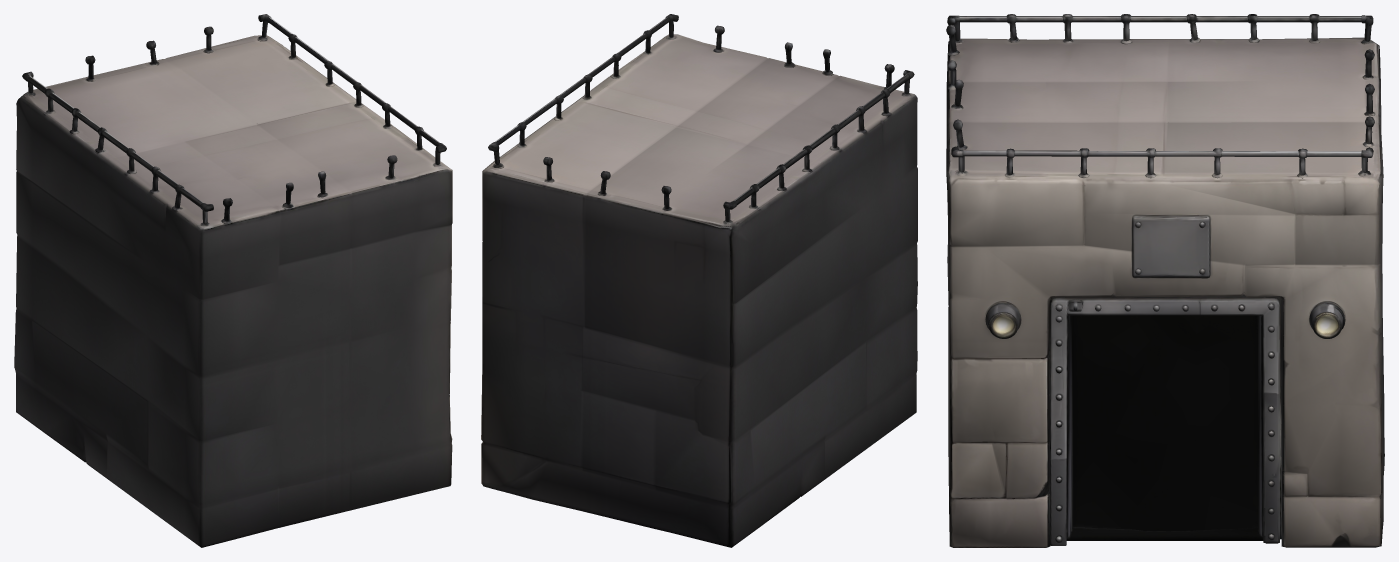
3 views of the same model, side by side, from view 1: azimuth 30°, elevation 25°; view 2: azimuth 150°, elevation 25°; view 3: azimuth 270°, elevation 25° (orthographic). The views are drawn at different scales.
Parts seen in each view (by area): view 1: tripo_node_8039b2e1-08fd-45e0-af36-5d665c4a3227; view 2: tripo_node_8039b2e1-08fd-45e0-af36-5d665c4a3227; view 3: tripo_node_8039b2e1-08fd-45e0-af36-5d665c4a3227.
Part boxes in pixels (x1,y1,x2,y2): tripo_node_8039b2e1-08fd-45e0-af36-5d665c4a3227: [14, 14, 452, 547]; tripo_node_8039b2e1-08fd-45e0-af36-5d665c4a3227: [481, 14, 917, 547]; tripo_node_8039b2e1-08fd-45e0-af36-5d665c4a3227: [946, 14, 1384, 547].
Bounding box in the file's own units: 0.8198 × 0.9995 × 0.9966.
Materials: 1 (1 with a texture image).
